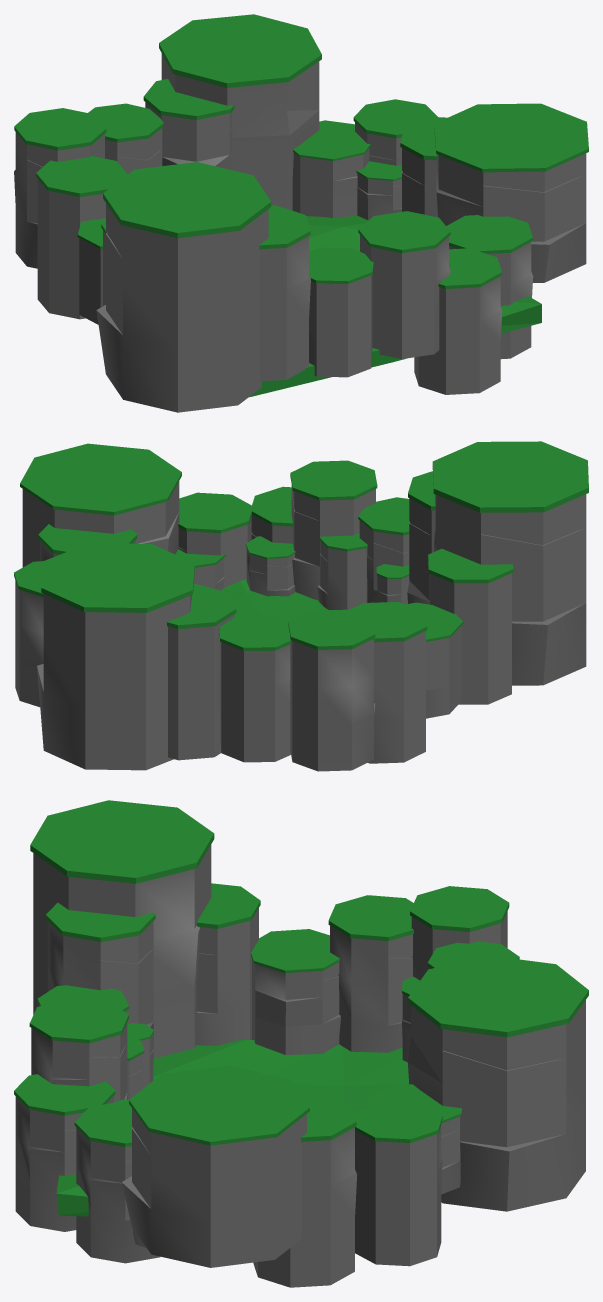
File: FinalScene_MountainBorders.fbx
3 renders of one model, top to bottom at view 1: azimuth 30°, elevation 25°; view 2: azimuth 150°, elevation 25°; view 3: azimuth 270°, elevation 25°, orthographic. The views are drawn at different scales.
Visible parts, largest first — view 1: HillBorder, Grass, Instantiate_Mauntain; view 2: HillBorder, Instantiate_Mauntain, Grass; view 3: HillBorder, Instantiate_Mauntain, Grass.
Boxes of the visible parts, x1,y1,x2,y2 form: HillBorder: (14, 14, 588, 412); Grass: (249, 215, 541, 397); Instantiate_Mauntain: (77, 218, 105, 324); HillBorder: (14, 441, 588, 771); Instantiate_Mauntain: (405, 602, 463, 718); Grass: (221, 579, 331, 620); HillBorder: (14, 800, 588, 1287); Instantiate_Mauntain: (251, 929, 340, 1054); Grass: (56, 1039, 408, 1216).
Size of the model in its own units: 1712 by 705 by 1514.
